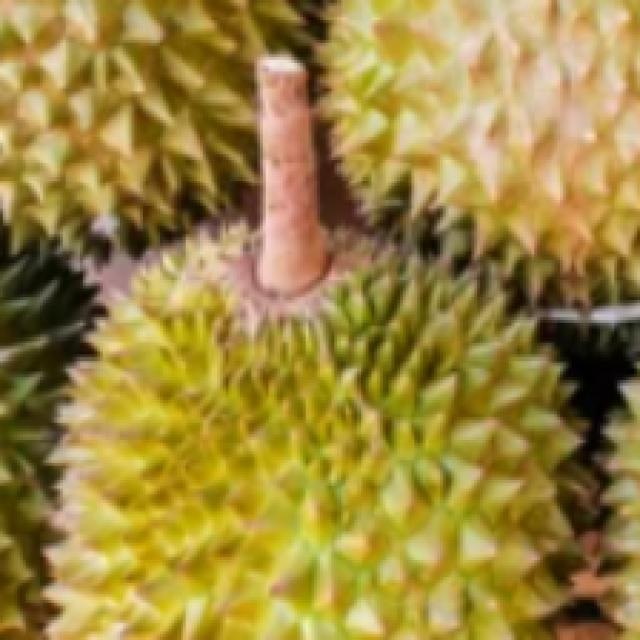d197: (41, 227, 582, 640), (317, 8, 640, 294), (0, 1, 324, 243)
